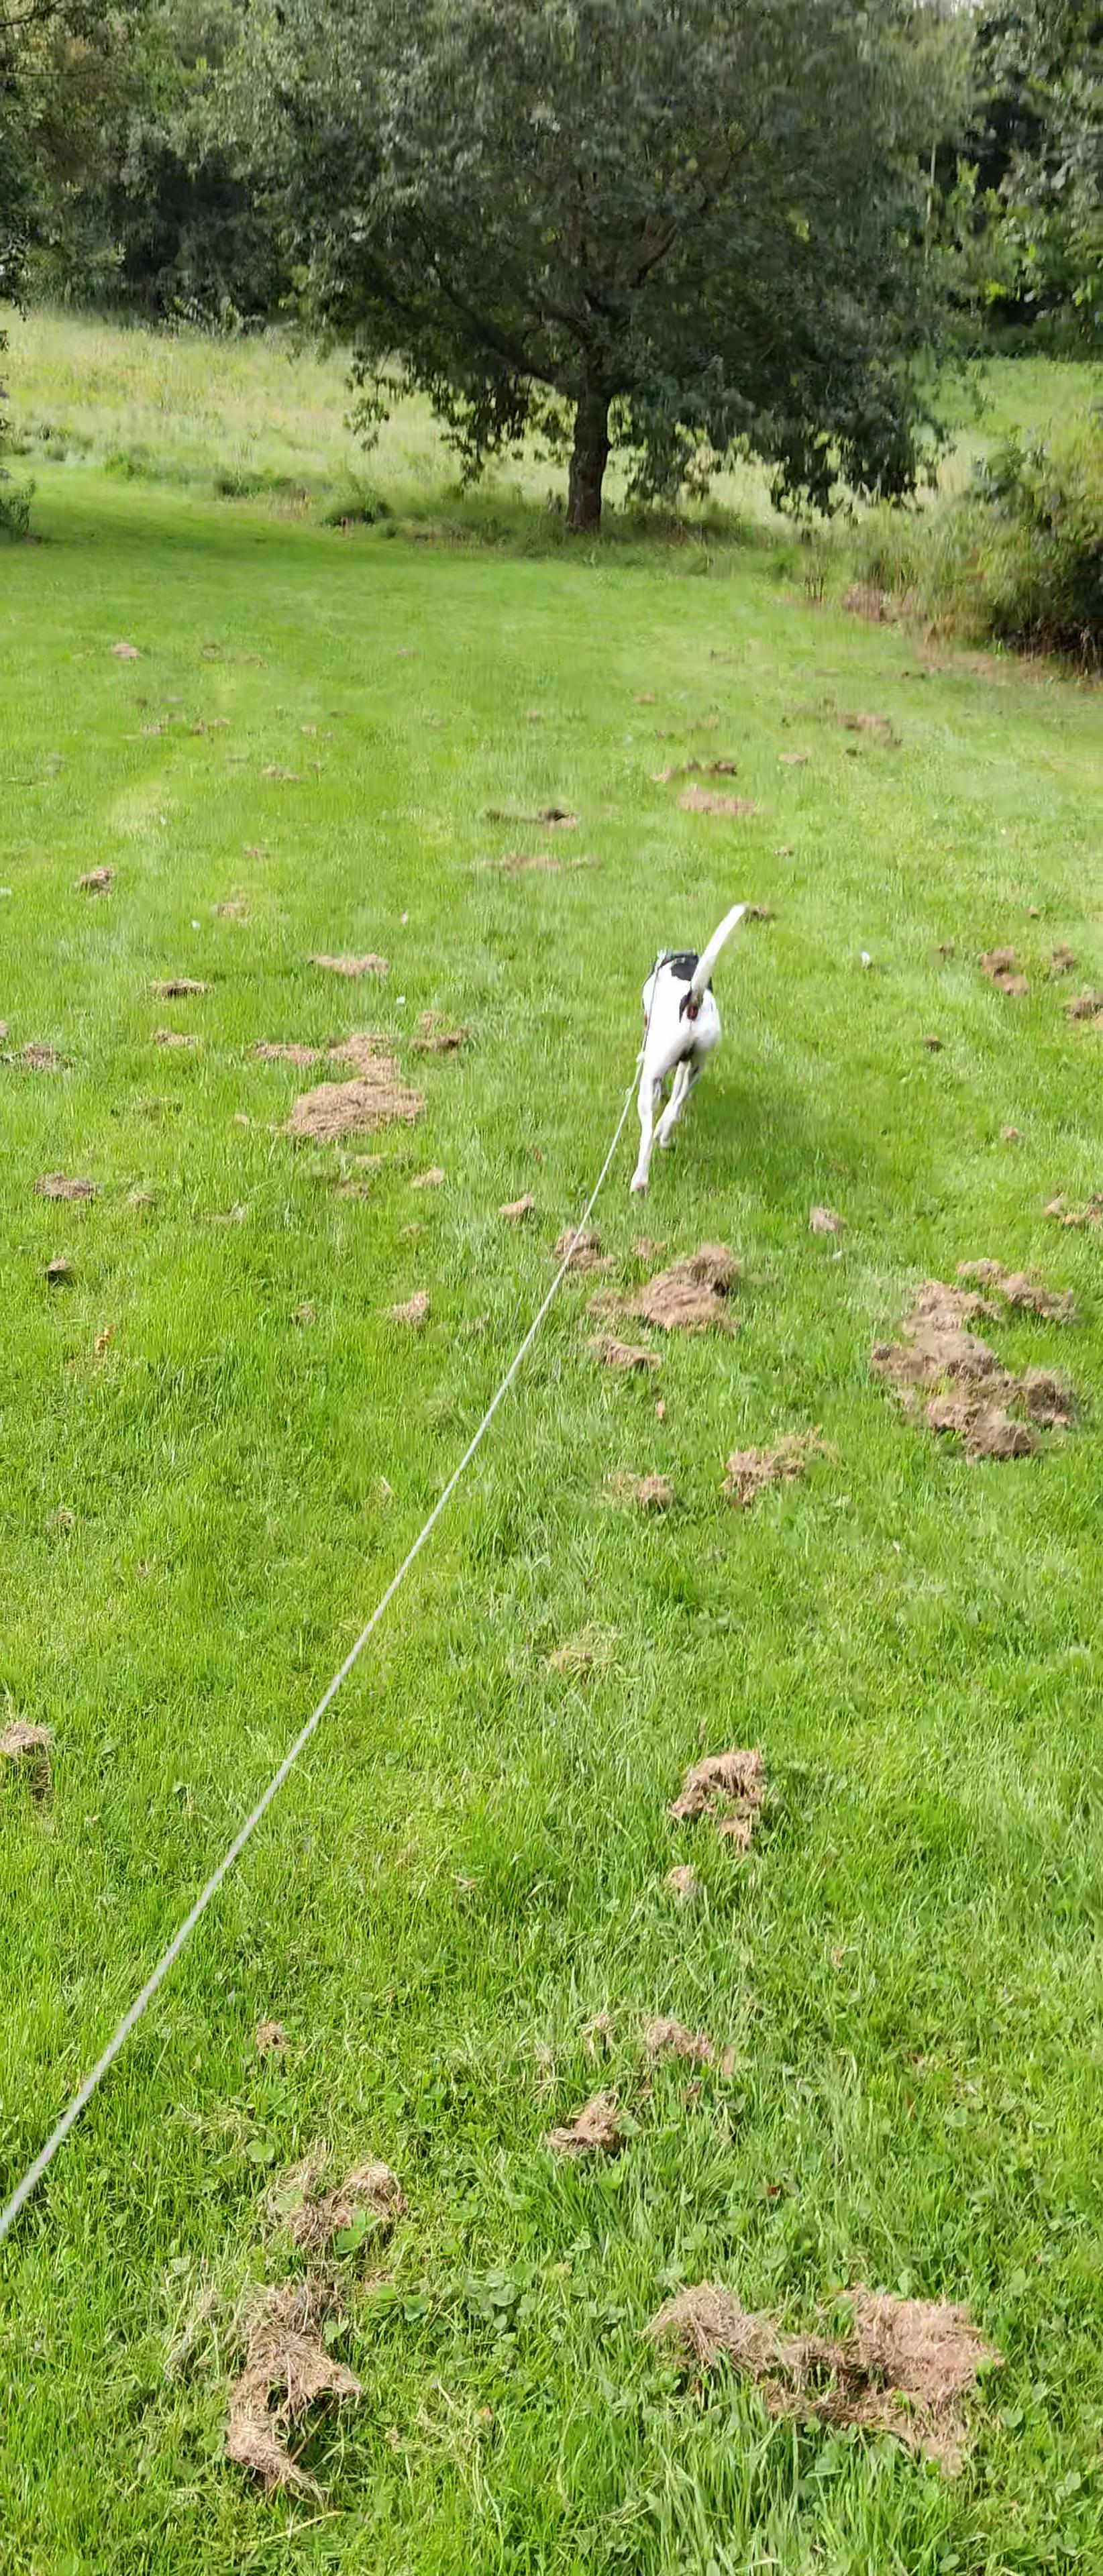Dog: (602, 882, 774, 1198)
